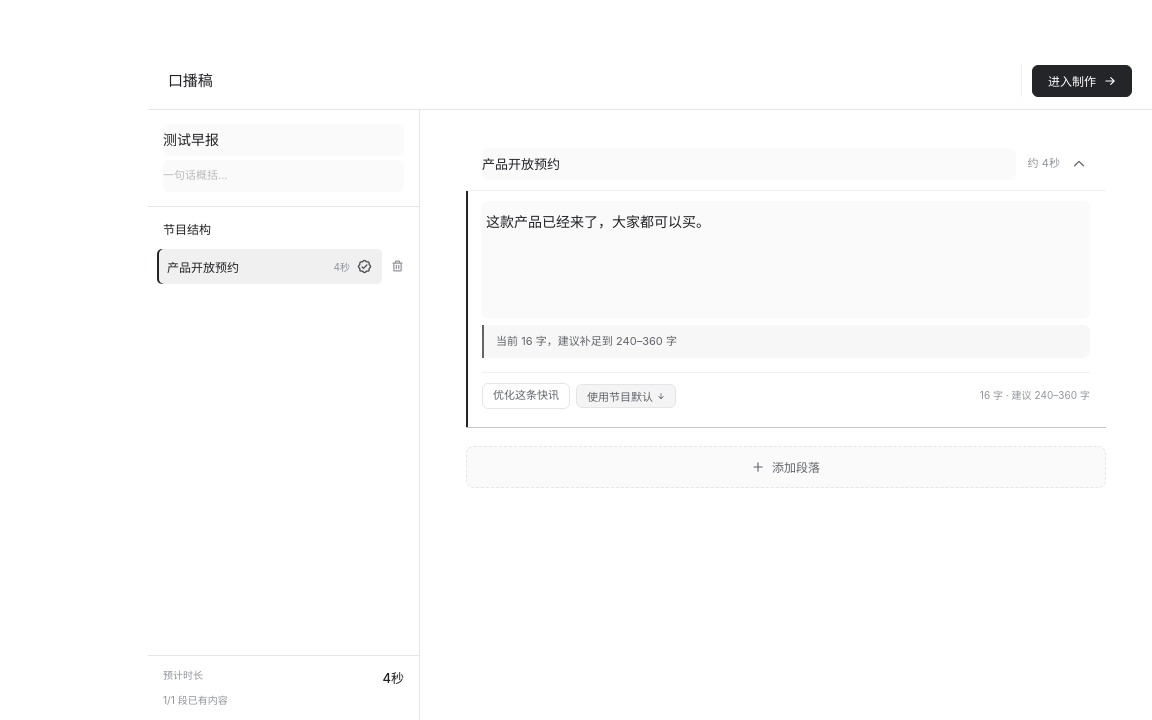
Test case: WritingLayer single quick-news optimization › applies the fact-bound optimizer result from the segment button
Click the button "优化这条快讯" at (526, 396), box left=482, top=382, right=570, bottom=408
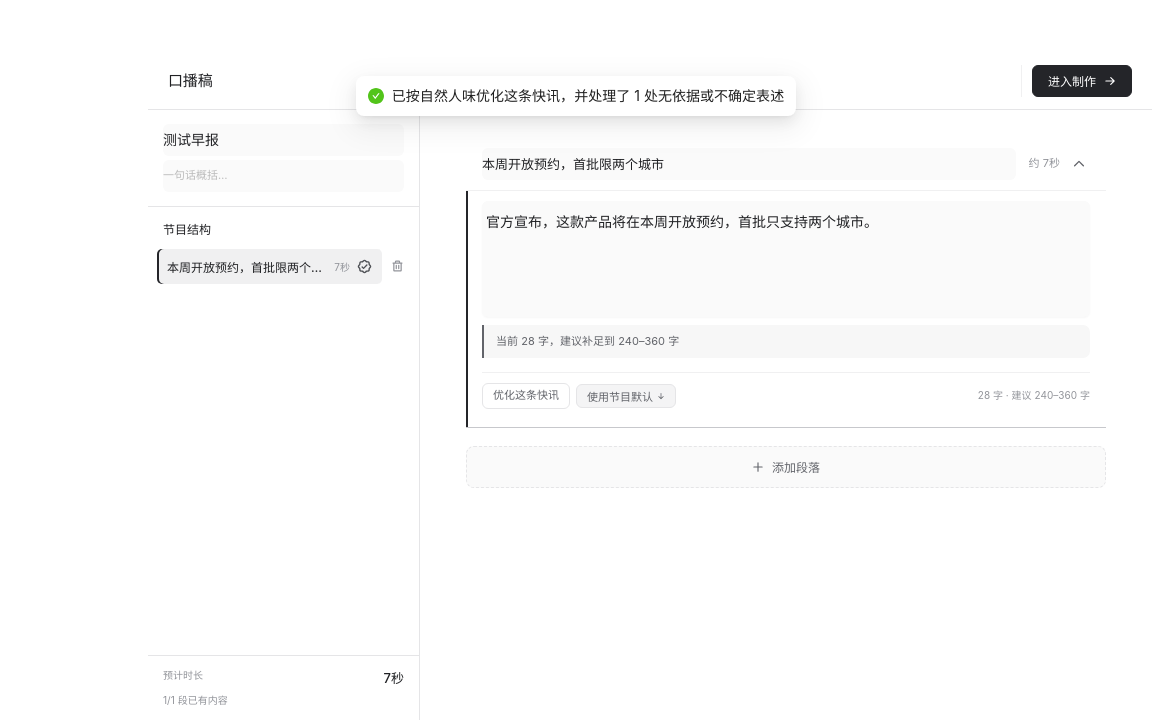
Check: the text box showing "官方宣布，这款产品将在本周开放预约，首批只支持两个城市。" is shown, box left=482, top=201, right=1090, bottom=317
Check: the field showing "本周开放预约，首批限两个城市" is shown, box left=482, top=148, right=1016, bottom=180
